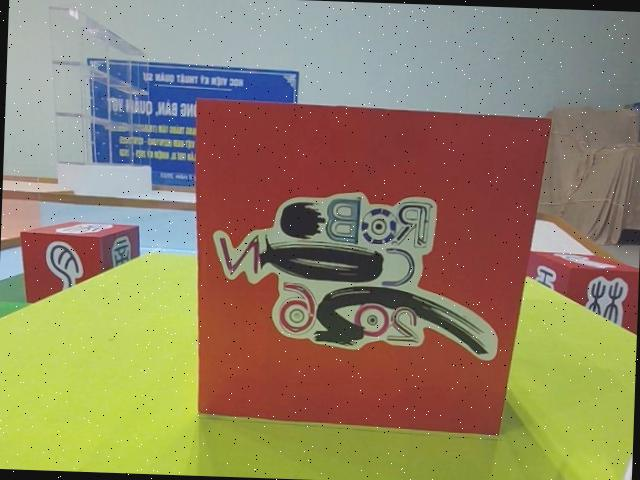R1: (182, 94, 553, 438)
R2 Fake: (14, 218, 142, 325), (526, 251, 640, 367)
